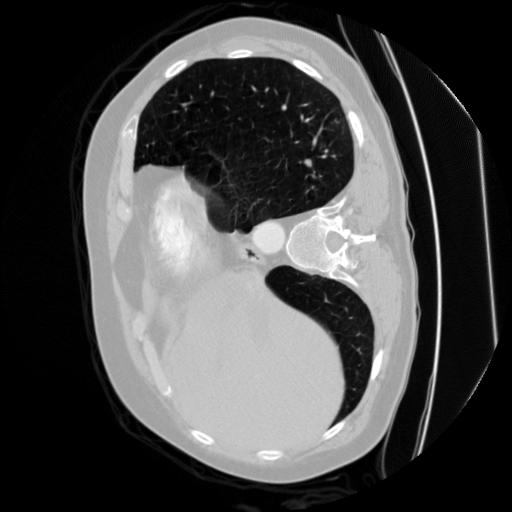nodule: (302, 157, 316, 171)
